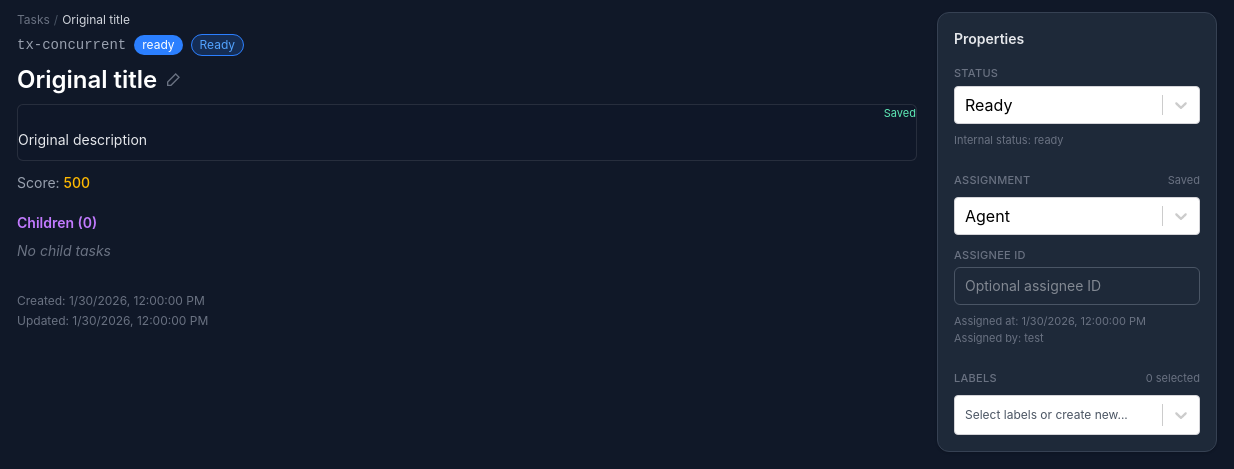
Test: TaskDetail › preserves both fields when a stale description response arrives last
Step 1. Replace the text in the text box named "Task description" with "Updated description" → (467, 140), box [18, 126, 916, 154]
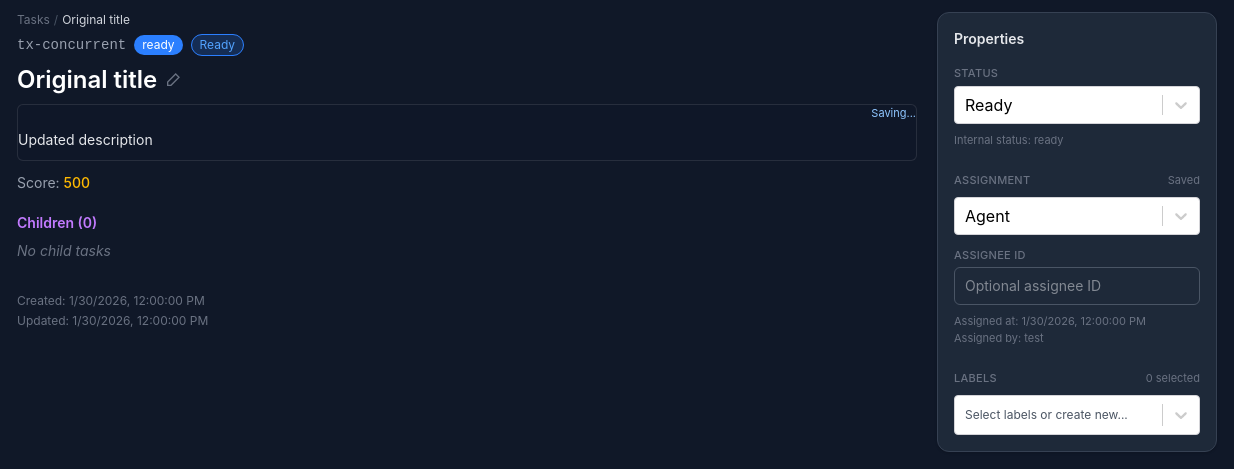
Step 2. Click the button "Original title" → click(99, 80), box [17, 64, 181, 96]
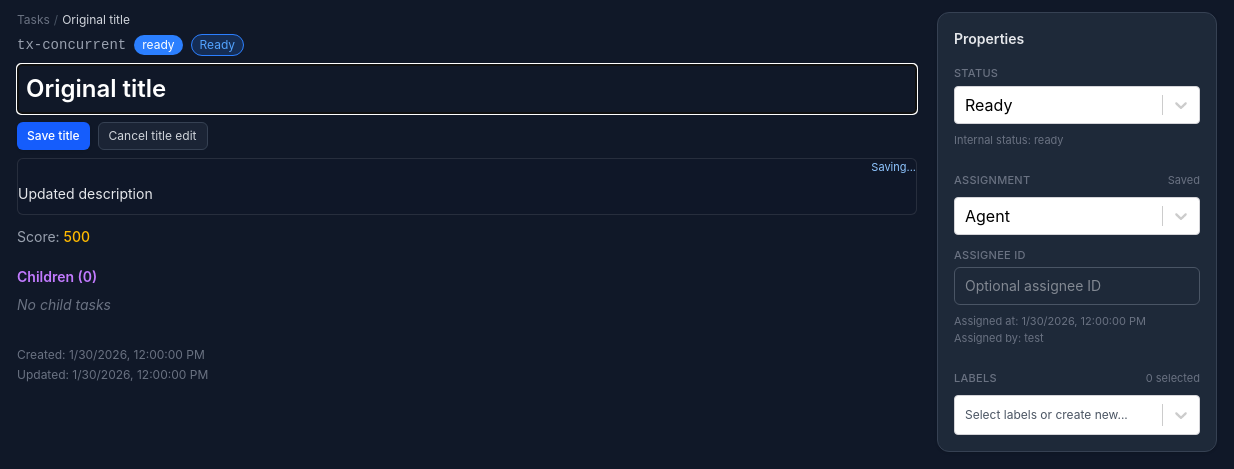
Step 3. Replace the text in the field named "Task title" with "Updated title" → (467, 89), box [17, 64, 917, 114]
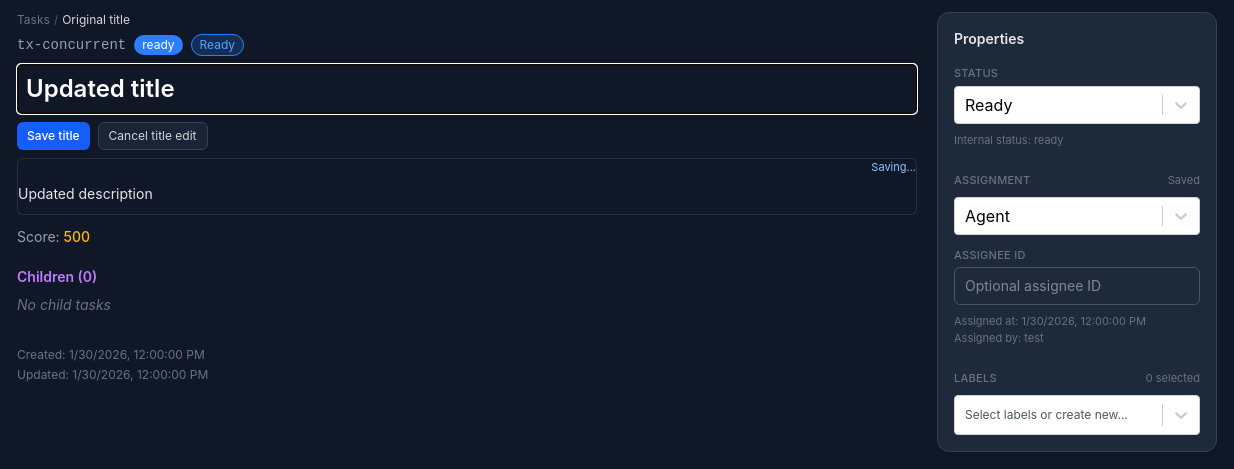
Step 4. Click the button "Save title" → click(53, 136), box [17, 122, 90, 150]
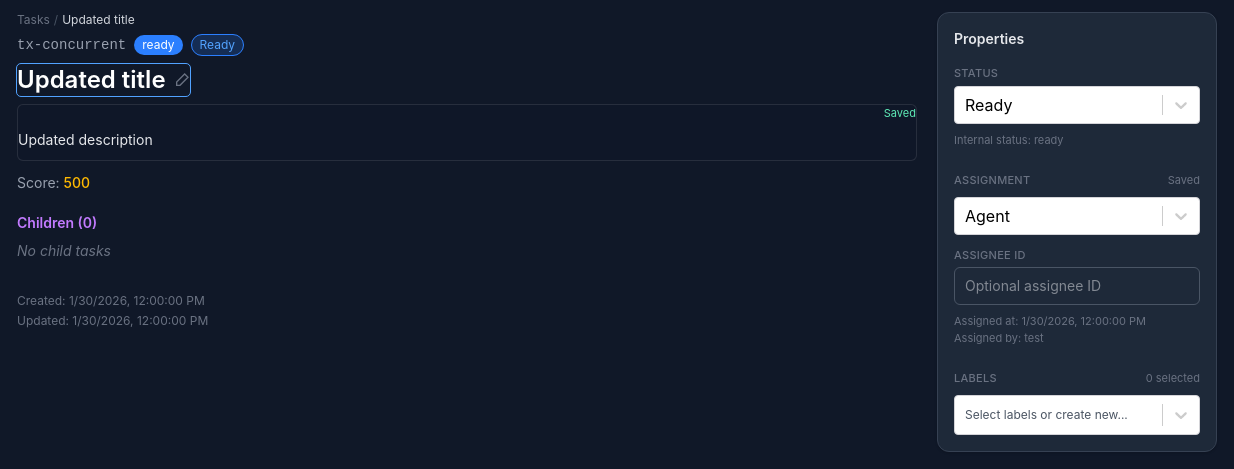
Expected: the text "Updated title" is shown, [62, 12, 135, 28]
